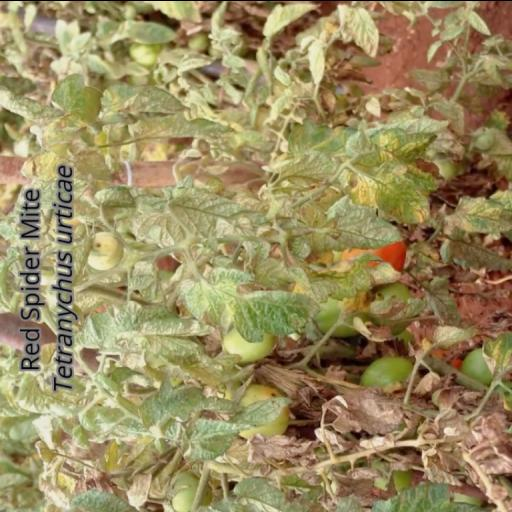disease_tomato: (178, 263, 324, 343), (304, 250, 400, 304), (324, 194, 404, 250), (374, 160, 432, 226), (180, 416, 254, 461), (454, 192, 512, 232)
